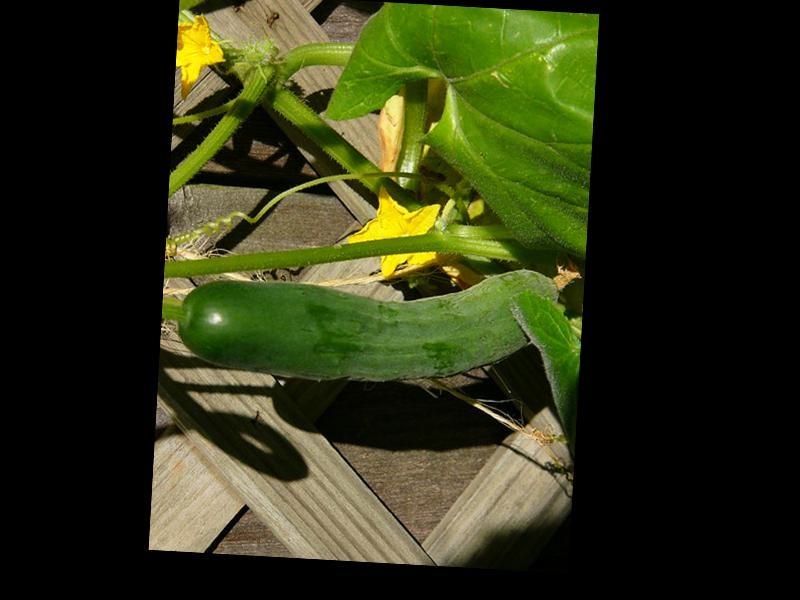Cucumber: (179, 250, 580, 395)
